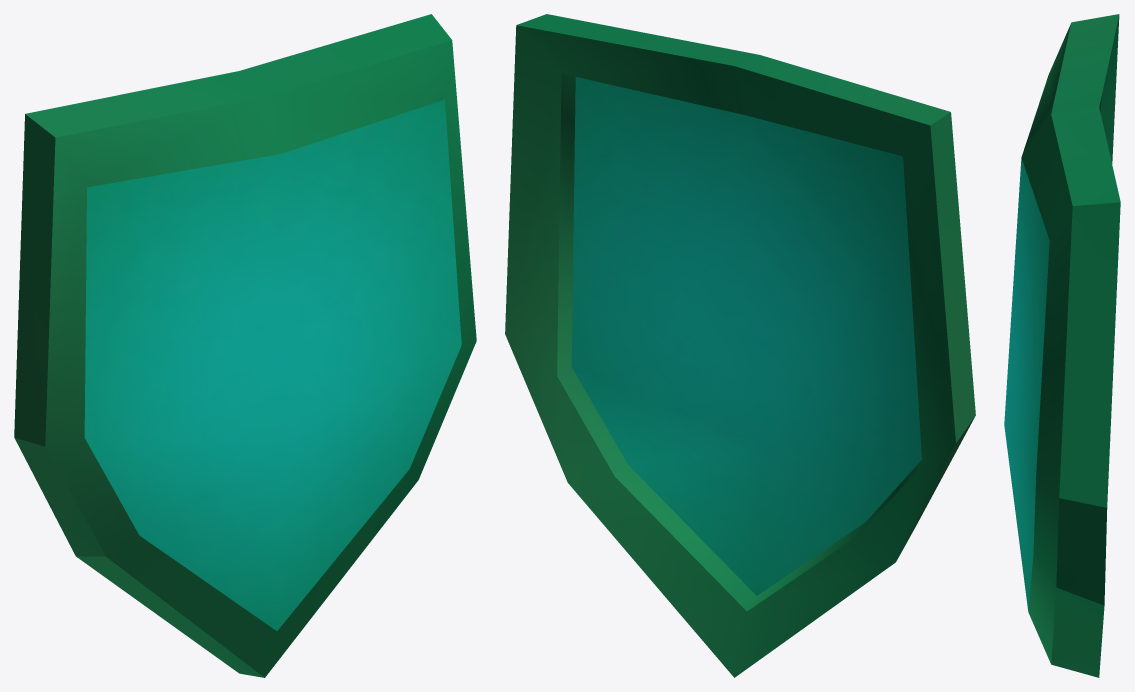
Rendered from Candy Shield_Model.FBX.
The picture shows the model from 3 angles, left to right: view 1: azimuth 30°, elevation 25°; view 2: azimuth 150°, elevation 25°; view 3: azimuth 270°, elevation 25°; orthographic projection. The views are drawn at different scales.
Parts seen in each view (by area): view 1: shield; view 2: shield; view 3: shield.
Boxes of the visible parts, x1,y1,x2,y2 form: shield: (14,14,476,677); shield: (505,14,975,677); shield: (1004,14,1120,677).
Size of the model in its own units: 84.59 by 110 by 20.31.
Materials: 1 (1 with a texture image).
